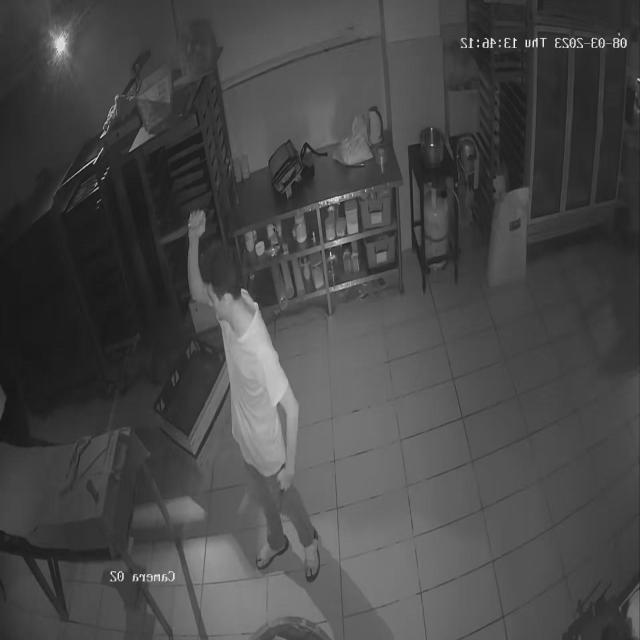Knife: (152, 212, 216, 253)
